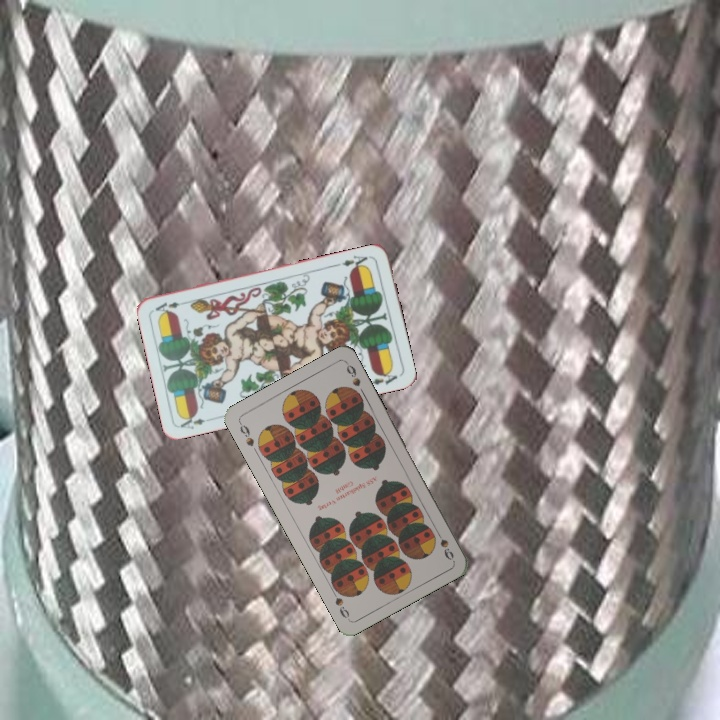EA: (333, 251, 374, 272), (176, 411, 208, 431)
S9: (431, 525, 457, 563), (235, 418, 257, 449)
